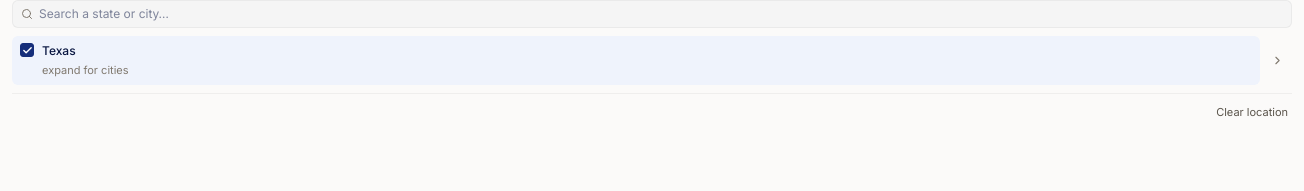
it: LocationPicker: clicking a city under a ticked state narrows to that city › ticked state whose cities load lazily: narrowing yields just the city, no collapse
Later steps or results of the test are not shown.
Click the button named "Show cities": [1277, 60] box [1262,36,1292,84]
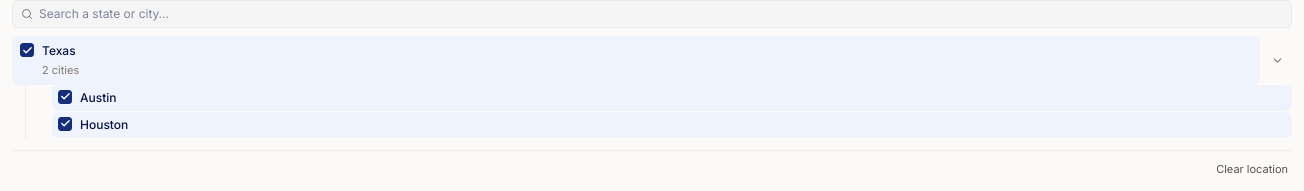
Check: the text "Austin" is shown, box [80,88,116,106]
